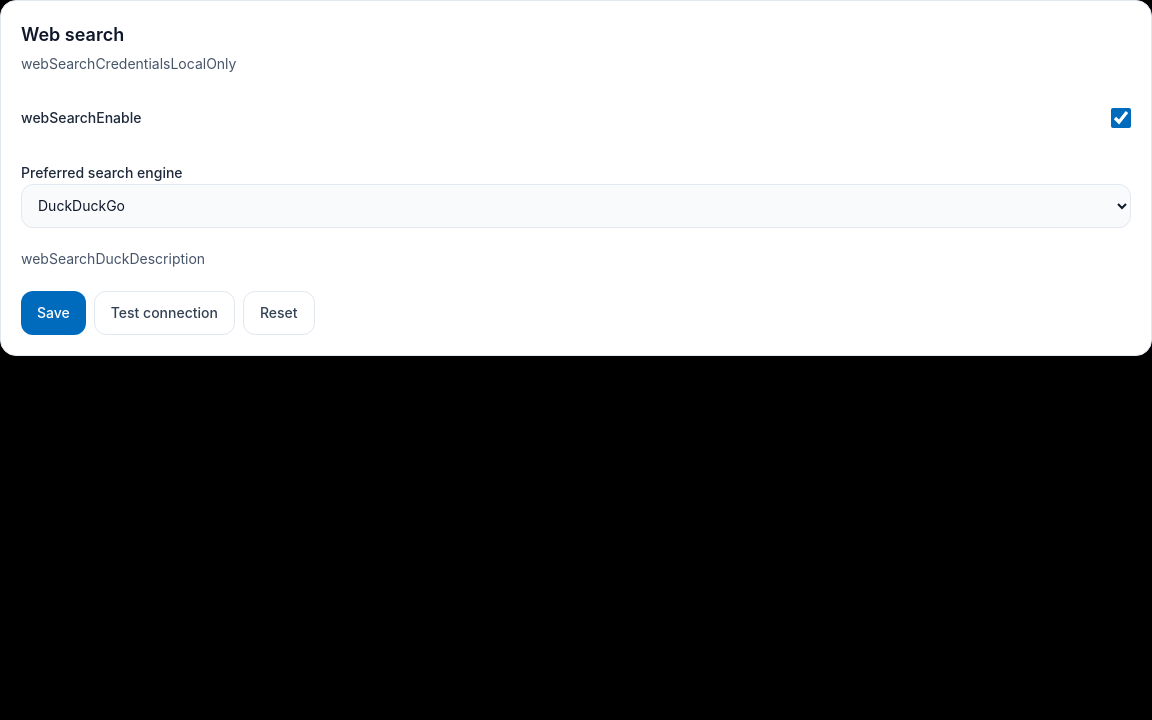
it: WebSearchSettings › surfaces reset failures
This screenshot has width=1152, height=720.
Expected: the heading "Web search" is shown, [21,24,124,45]
Click the button "Reset" at (279,312), box [243,290,315,334]
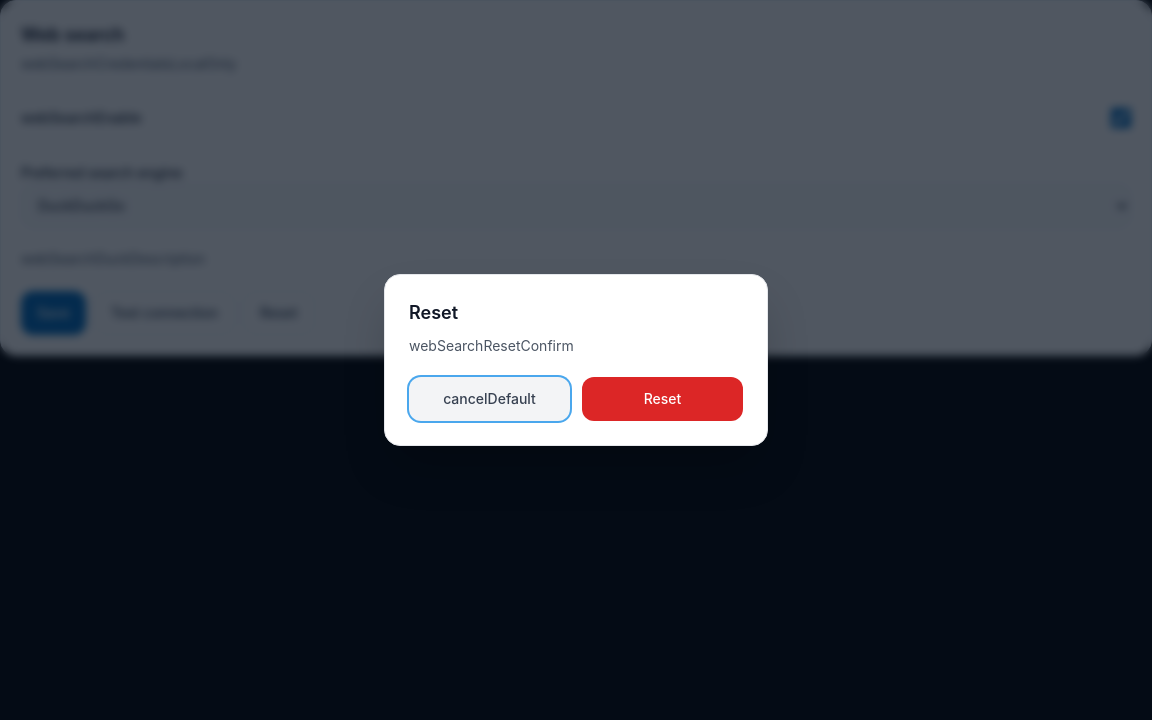
Click the button "Reset" at (662,399), box [582,377,743,421]
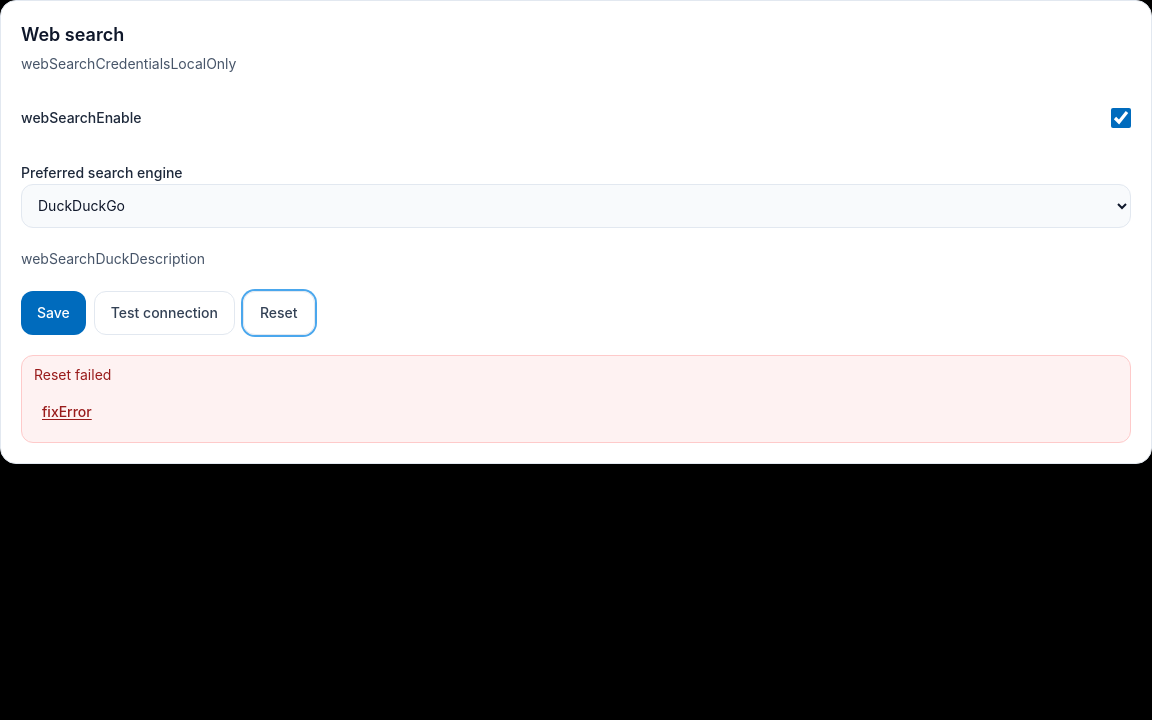
Now the text "Reset failed" is shown, box [34,366,111,382]
